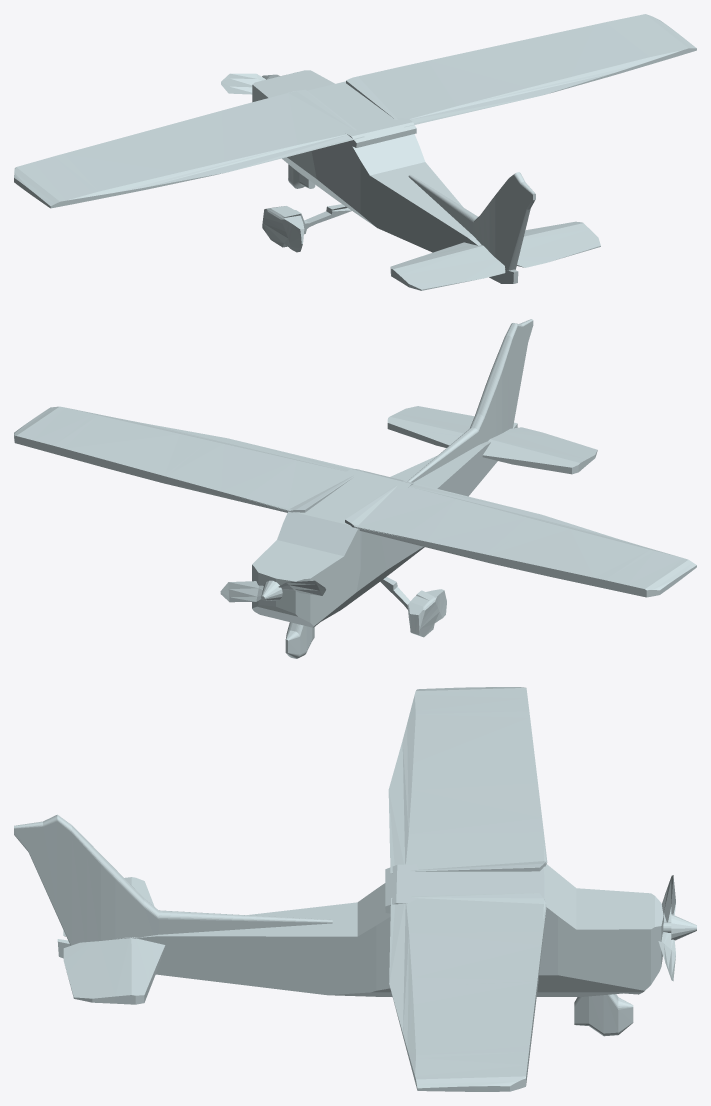
3 renders of one model, top to bottom at view 1: azimuth 30°, elevation 25°; view 2: azimuth 150°, elevation 25°; view 3: azimuth 270°, elevation 25°, orthographic. The views are drawn at different scales.
Visible parts, largest first — view 1: Aircraft visual hull, Rotor 1790238473143-rt48lf3jryc; view 2: Aircraft visual hull, Rotor 1790238473143-rt48lf3jryc; view 3: Aircraft visual hull, Rotor 1790238473143-rt48lf3jryc.
Boxes of the visible parts, <box> form: Aircraft visual hull: <box>14,14,696,290</box>; Rotor 1790238473143-rt48lf3jryc: <box>221,73,279,94</box>; Aircraft visual hull: <box>14,319,696,658</box>; Rotor 1790238473143-rt48lf3jryc: <box>220,580,325,602</box>; Aircraft visual hull: <box>14,687,663,1091</box>; Rotor 1790238473143-rt48lf3jryc: <box>658,875,696,981</box>.
Bounding box in the file's own units: 10.12 × 2.6 × 7.32.
